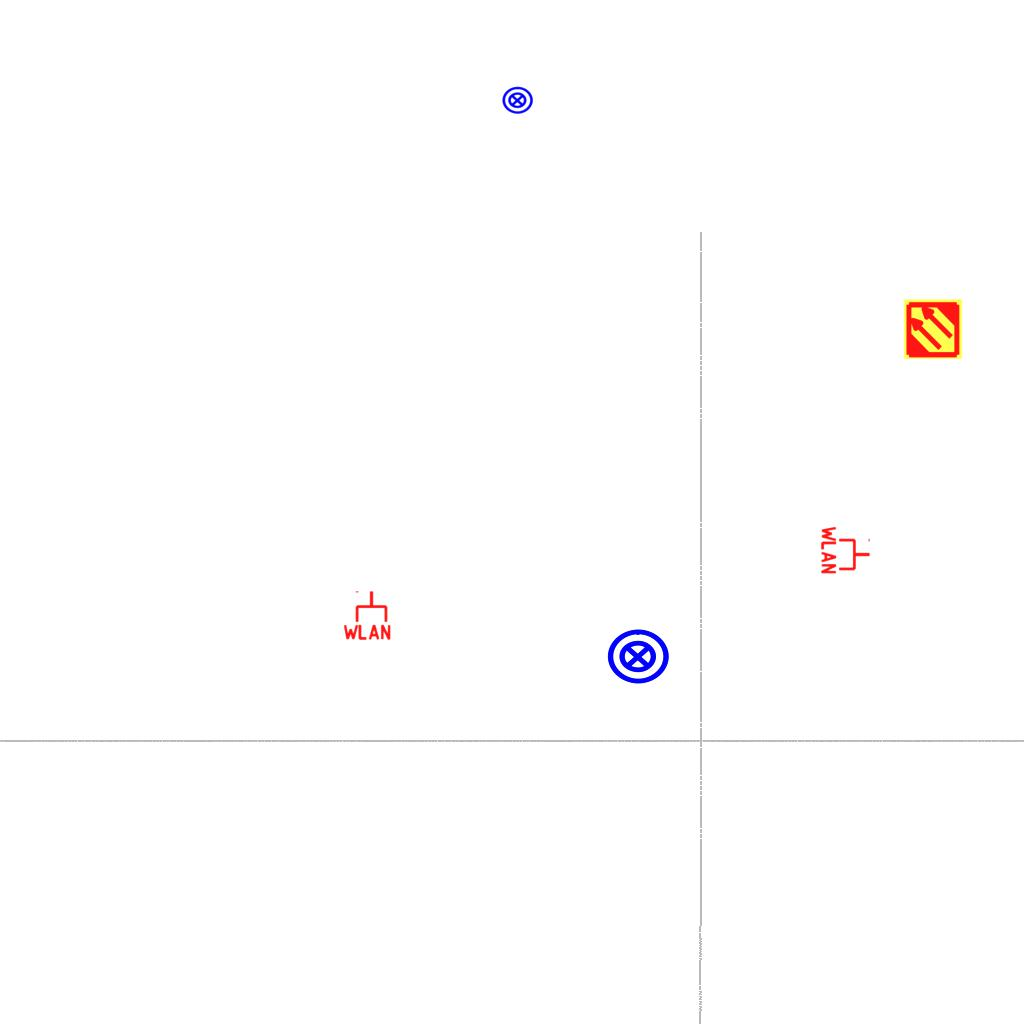ASR_Ansaugrauchmelder: (902, 298, 964, 360)
Taster_beleuchtet: (605, 624, 671, 690), (501, 84, 534, 117)
WLAN: (341, 589, 393, 641), (820, 524, 872, 576)
